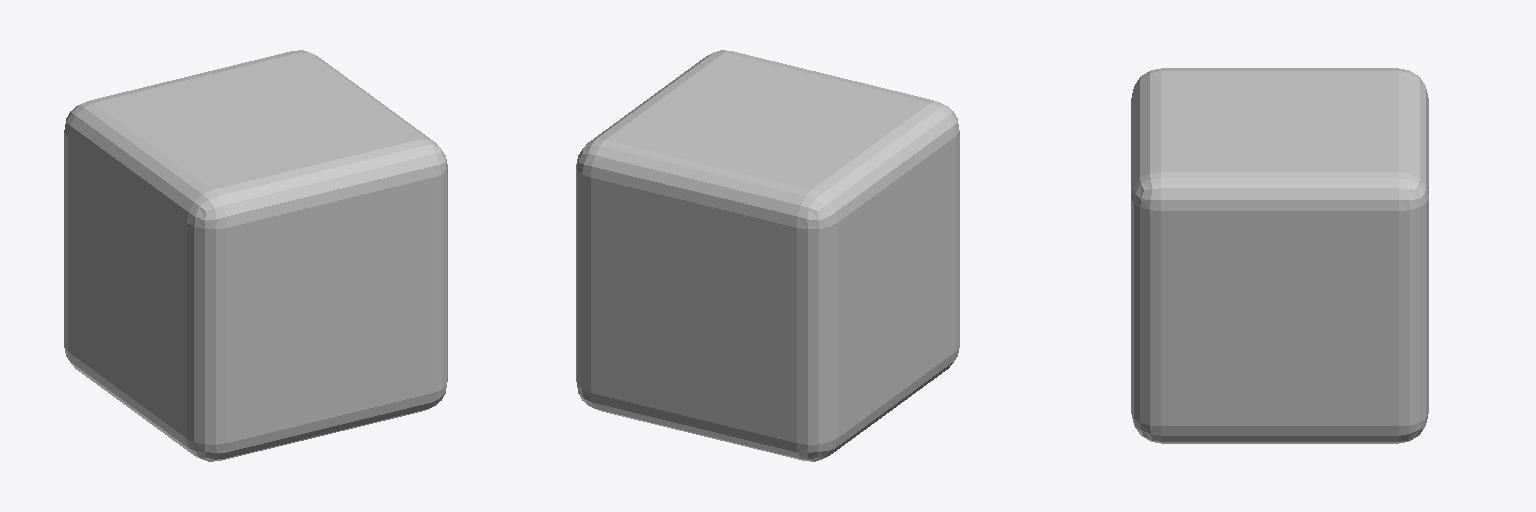
The model's file is StencilModel.obj.
3 views of the same model, side by side, from view 1: azimuth 30°, elevation 25°; view 2: azimuth 150°, elevation 25°; view 3: azimuth 270°, elevation 25° (orthographic).
Parts seen in each view (by area): view 1: pCube2; view 2: pCube2; view 3: pCube2.
Part boxes in pixels (x1,y1,x2,y2): pCube2: (64,50,447,461); pCube2: (576,50,959,461); pCube2: (1131,68,1428,443).
Size of the model in its own units: 105 by 105 by 105.